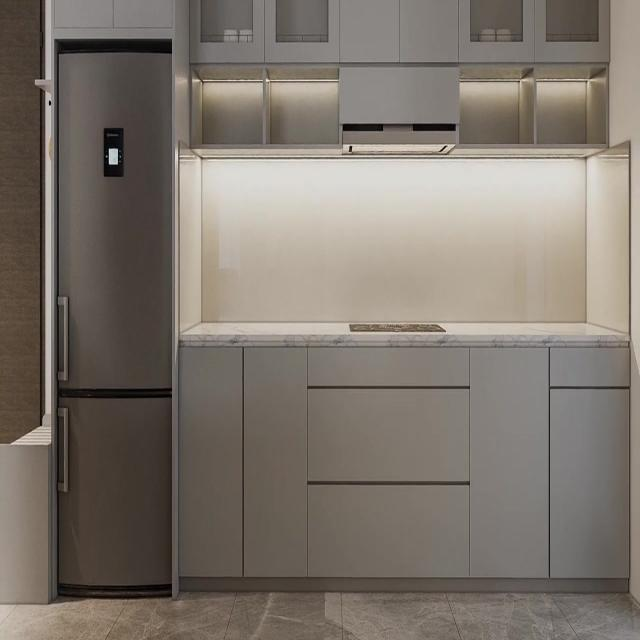obstacle: (178, 341, 631, 576), (52, 39, 176, 598), (186, 0, 610, 151)
